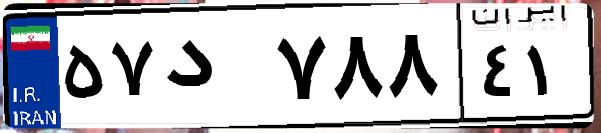1: (525, 38, 570, 115)
4: (475, 38, 525, 113)
5: (57, 26, 110, 100)
7: (270, 28, 330, 110), (110, 28, 158, 98)
8: (385, 28, 445, 110), (330, 28, 385, 110)
د: (158, 20, 270, 120)
